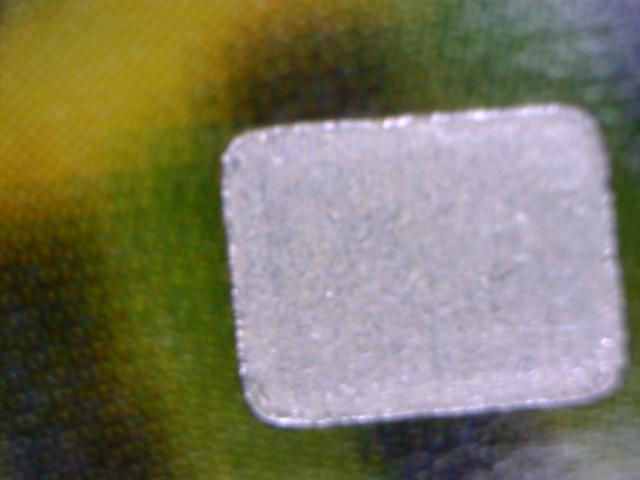ok: (215, 98, 629, 438)
